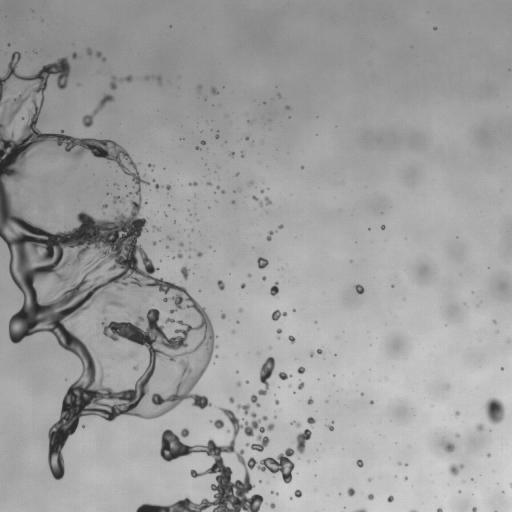droplet: (484, 397, 505, 424), (448, 464, 463, 475), (271, 310, 287, 320), (250, 394, 260, 407), (212, 419, 225, 429), (257, 257, 268, 268), (180, 266, 189, 279), (270, 282, 278, 296), (278, 371, 290, 380), (354, 284, 364, 294), (444, 442, 454, 452), (266, 231, 274, 240), (307, 417, 315, 426), (347, 487, 355, 496), (217, 280, 224, 290), (121, 75, 132, 81), (288, 335, 295, 343), (297, 366, 305, 373), (356, 459, 363, 467), (294, 489, 301, 497), (291, 421, 300, 427), (211, 87, 218, 94), (477, 423, 484, 430), (86, 48, 92, 55), (152, 225, 159, 231), (298, 382, 304, 389), (307, 397, 313, 404), (326, 424, 333, 430), (367, 493, 373, 500), (133, 364, 139, 370), (387, 496, 393, 502), (72, 52, 77, 59), (156, 76, 161, 83), (165, 184, 170, 191), (189, 182, 197, 186), (197, 251, 202, 257), (177, 252, 182, 258), (229, 397, 234, 403), (270, 502, 275, 508), (276, 328, 281, 333), (236, 381, 241, 386), (221, 313, 225, 319), (197, 85, 201, 90), (200, 140, 205, 144), (229, 152, 234, 156), (148, 164, 153, 168), (278, 224, 283, 228), (167, 236, 172, 240), (241, 283, 245, 288), (455, 411, 459, 416), (486, 453, 491, 457), (144, 76, 148, 80), (285, 105, 289, 109), (215, 134, 219, 138), (207, 181, 211, 185), (249, 181, 253, 185), (381, 225, 385, 229), (179, 242, 183, 246), (262, 276, 266, 280), (275, 400, 279, 404), (472, 507, 476, 511), (437, 508, 442, 511), (248, 120, 251, 124), (245, 136, 248, 140), (196, 146, 200, 149), (232, 200, 235, 204), (153, 241, 156, 245), (456, 433, 459, 437), (241, 151, 243, 156), (248, 274, 251, 277), (239, 308, 242, 311), (493, 320, 496, 323), (507, 340, 510, 343), (404, 477, 407, 480), (434, 27, 436, 30), (235, 173, 238, 175), (125, 183, 127, 186), (216, 186, 219, 188), (222, 190, 224, 193), (260, 190, 263, 192), (166, 245, 168, 248), (246, 380, 248, 383), (446, 385, 449, 387), (370, 401, 373, 403), (398, 462, 401, 464), (270, 491, 273, 493), (289, 497, 292, 499), (278, 94, 280, 96), (54, 182, 56, 184), (107, 193, 109, 195), (391, 285, 393, 287), (277, 337, 279, 339), (107, 365, 109, 367), (501, 367, 503, 369), (361, 393, 363, 395), (369, 478, 371, 480)
ligament: (0, 51, 218, 479), (136, 404, 311, 511), (82, 94, 114, 127), (258, 357, 274, 395), (116, 351, 137, 362), (252, 196, 271, 206), (309, 348, 322, 356), (96, 51, 106, 61), (152, 179, 160, 189), (110, 76, 116, 89), (113, 182, 120, 189), (353, 508, 367, 511), (410, 509, 416, 511), (510, 482, 511, 487)
